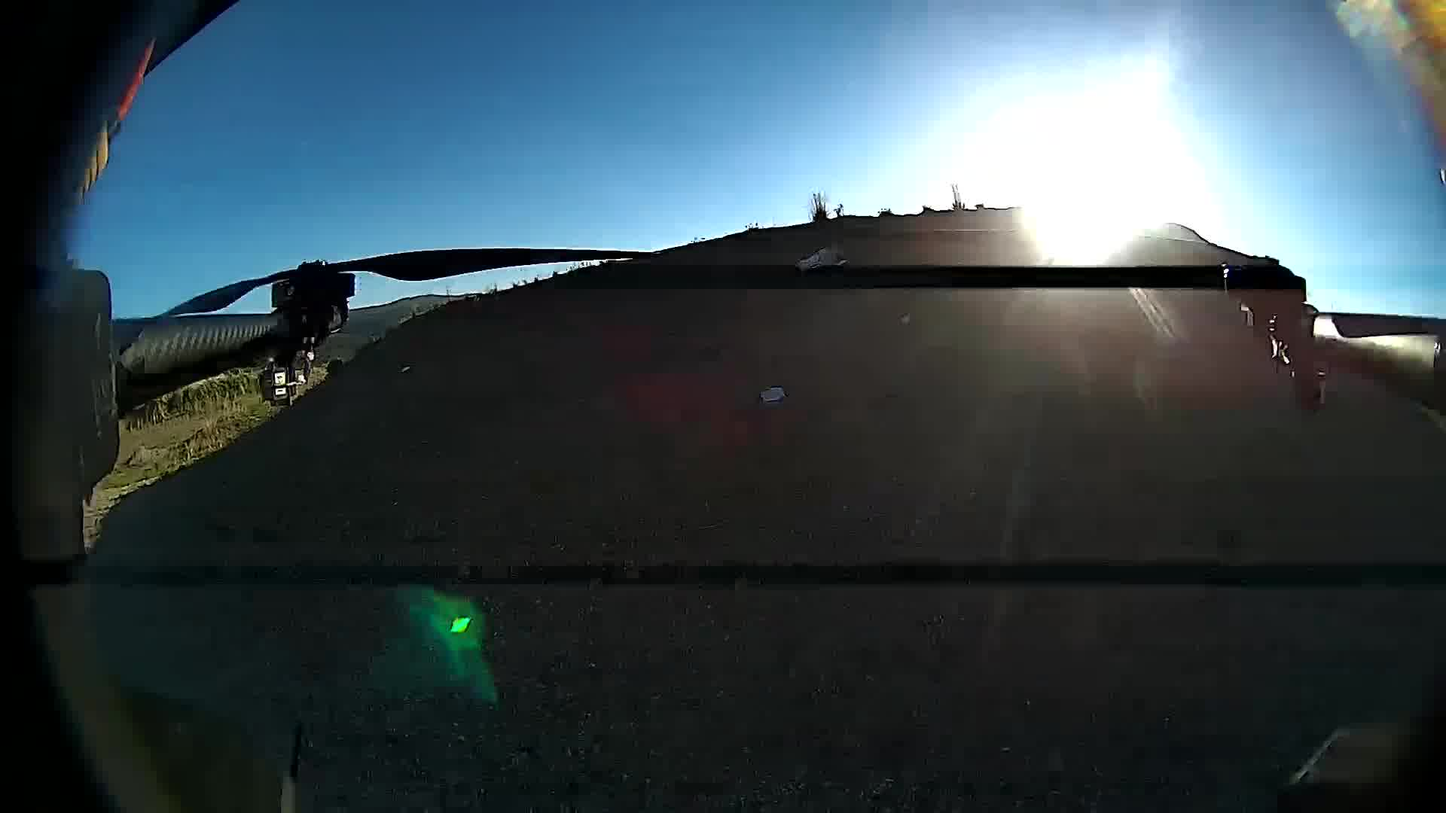Target: (761, 385, 786, 401)
